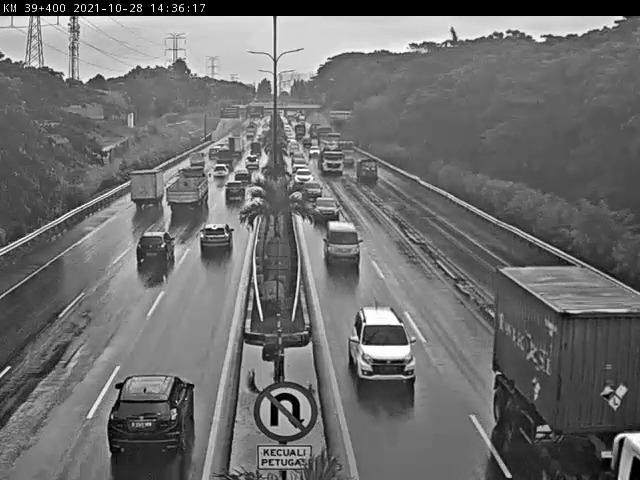big truck: (492, 263, 640, 480), (162, 169, 209, 215)
car: (104, 373, 200, 463), (349, 306, 418, 385), (321, 217, 359, 263), (137, 231, 176, 265), (198, 221, 233, 255), (311, 196, 341, 223), (223, 179, 245, 201), (301, 181, 324, 200), (293, 168, 314, 187), (232, 166, 252, 183), (211, 164, 230, 181)
small truck: (128, 168, 166, 211), (355, 159, 379, 181)
